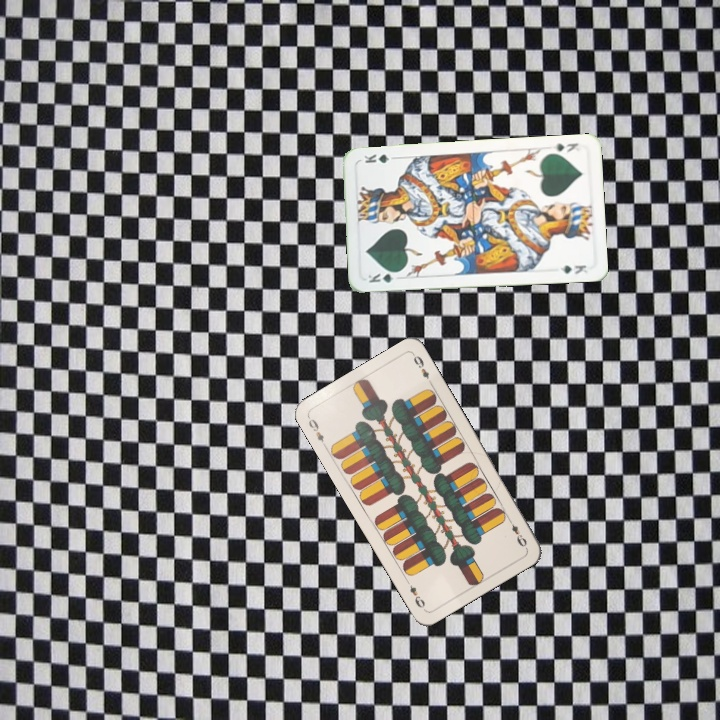E9: (504, 513, 530, 550), (304, 413, 329, 450)
GK: (364, 268, 403, 285), (548, 139, 581, 155)
